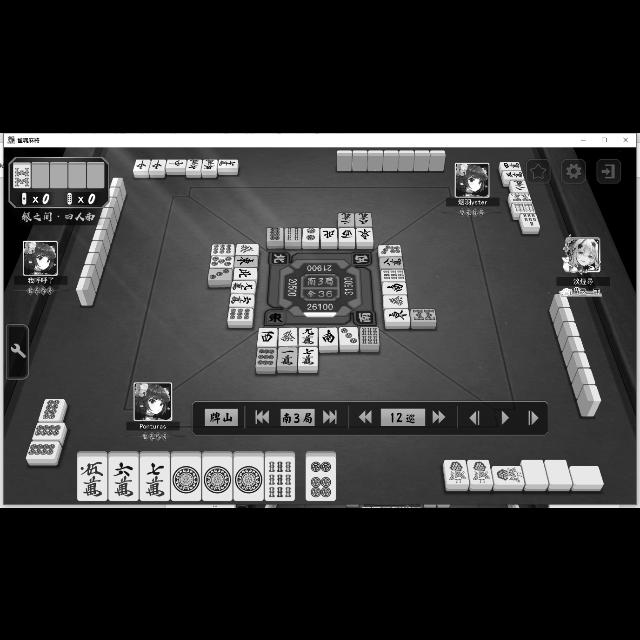1m: (277, 346, 297, 366)
1p: (170, 456, 200, 500), (202, 456, 232, 499), (233, 456, 263, 499)
1s: (444, 460, 470, 484), (492, 466, 526, 484), (468, 459, 492, 483)
2m: (510, 180, 530, 192), (338, 212, 356, 225)
2p: (302, 227, 318, 241)
3m: (501, 170, 525, 180), (356, 212, 372, 225)
3p: (339, 326, 359, 344), (208, 267, 232, 279)
4m: (499, 160, 523, 170)
4s: (285, 227, 301, 241)
5m: (77, 456, 106, 499), (202, 158, 218, 170)
5p: (209, 255, 233, 267)
6m: (108, 458, 138, 500), (230, 294, 254, 306), (186, 158, 202, 170)
6p: (306, 456, 336, 500)
6s: (360, 326, 380, 344), (512, 202, 536, 212)
7m: (140, 456, 170, 499), (298, 346, 318, 366), (218, 158, 240, 168)
7p: (378, 244, 402, 256)
7s: (520, 212, 540, 226)
8m: (380, 256, 404, 268)
8p: (38, 398, 66, 420), (26, 440, 60, 458), (32, 423, 64, 439), (266, 228, 284, 240)
8s: (13, 165, 31, 188), (410, 308, 438, 320), (508, 192, 532, 202)
9m: (298, 326, 318, 346), (230, 280, 256, 292)
9p: (256, 346, 276, 366), (228, 306, 254, 320), (211, 243, 235, 255)
9s: (264, 456, 294, 499), (382, 268, 404, 280)
chun: (148, 158, 166, 170), (133, 158, 149, 170), (167, 158, 186, 168)
haku: (545, 460, 573, 484), (521, 460, 549, 482), (568, 466, 604, 482)
hatsu: (278, 328, 298, 347), (384, 294, 408, 308), (236, 243, 258, 254)
nan: (320, 327, 338, 345), (382, 281, 408, 293)
pe: (234, 267, 256, 279), (320, 227, 338, 239)
sha: (258, 326, 276, 346), (340, 227, 354, 241)
tou: (384, 308, 411, 322), (235, 254, 257, 266), (356, 227, 374, 241)
